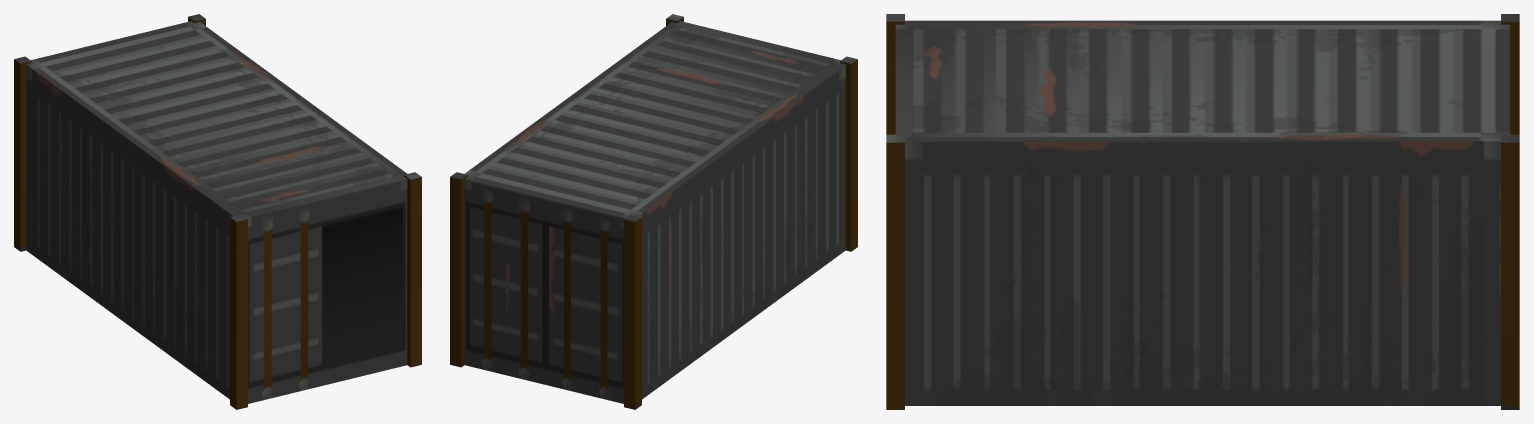
Rendered from Building_AncientMediumContainer__B.obj.
3 renders of one model, left to right at view 1: azimuth 30°, elevation 25°; view 2: azimuth 150°, elevation 25°; view 3: azimuth 270°, elevation 25°, orthographic. The views are drawn at different scales.
Parts seen in each view (by area): view 1: Body; view 2: Body; view 3: Body.
Part boxes in pixels (bbox=[...]): Body: bbox=[14, 14, 421, 409]; Body: bbox=[450, 14, 857, 409]; Body: bbox=[886, 14, 1519, 409].
Size of the model in its own units: 1.98 by 1.92 by 4.12.
Materials: 1 (1 with a texture image).
